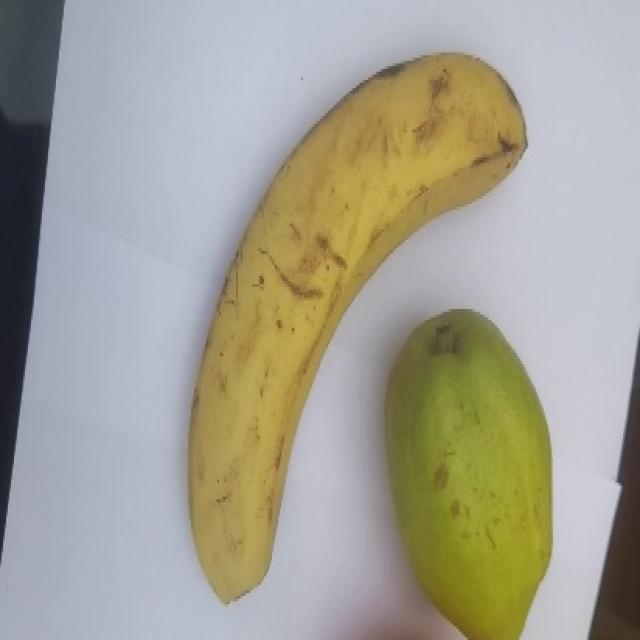Banana: (183, 49, 533, 605)
